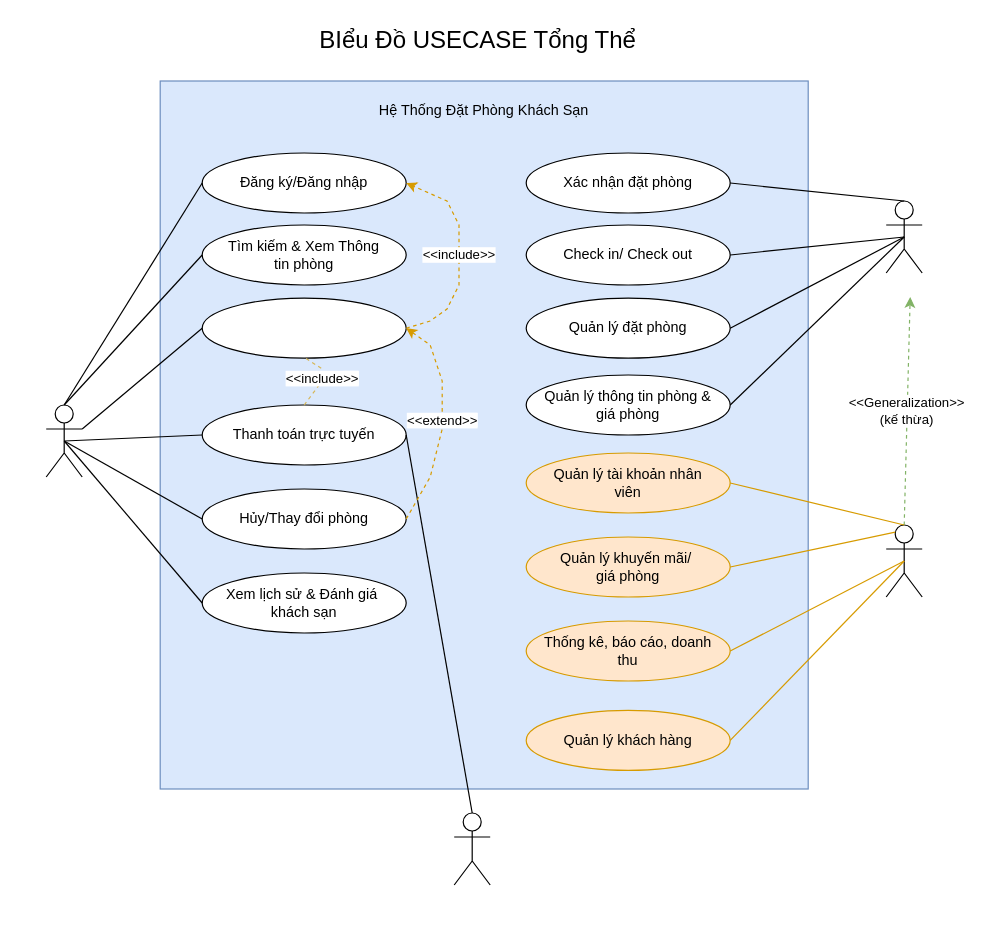
Image size: 986x948. Some labels were removed from this diagram. Each missing label, with the centre of its shape:
Cổng thanh toán (Payement Gateway): [471,848]
Guest (Khách hàng ): [63,440]
Lễ Tân: [903,236]
Quản trị viên (Admin ): [903,560]
Đặt phòng: [303,327]
